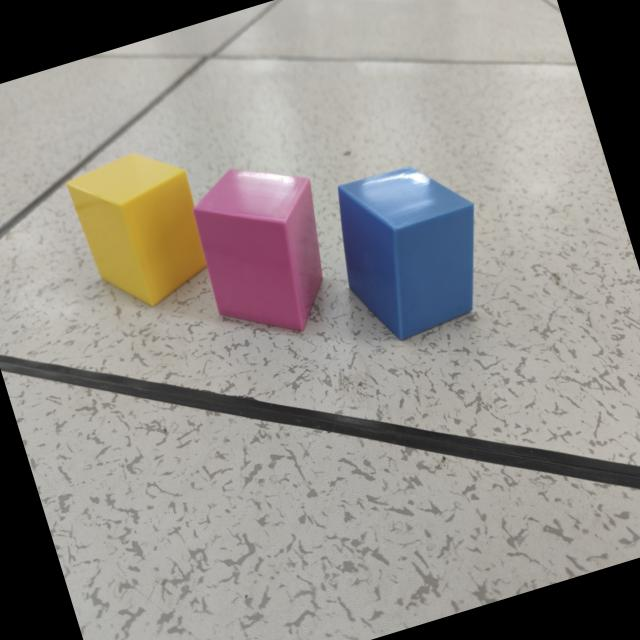blue: (338, 167, 476, 341)
pink: (193, 169, 323, 333)
yellow: (67, 154, 207, 308)
